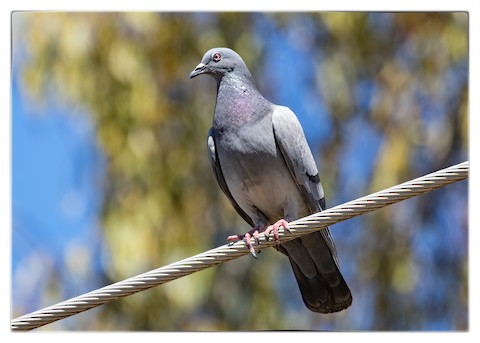pigeon: (187, 43, 358, 318)
